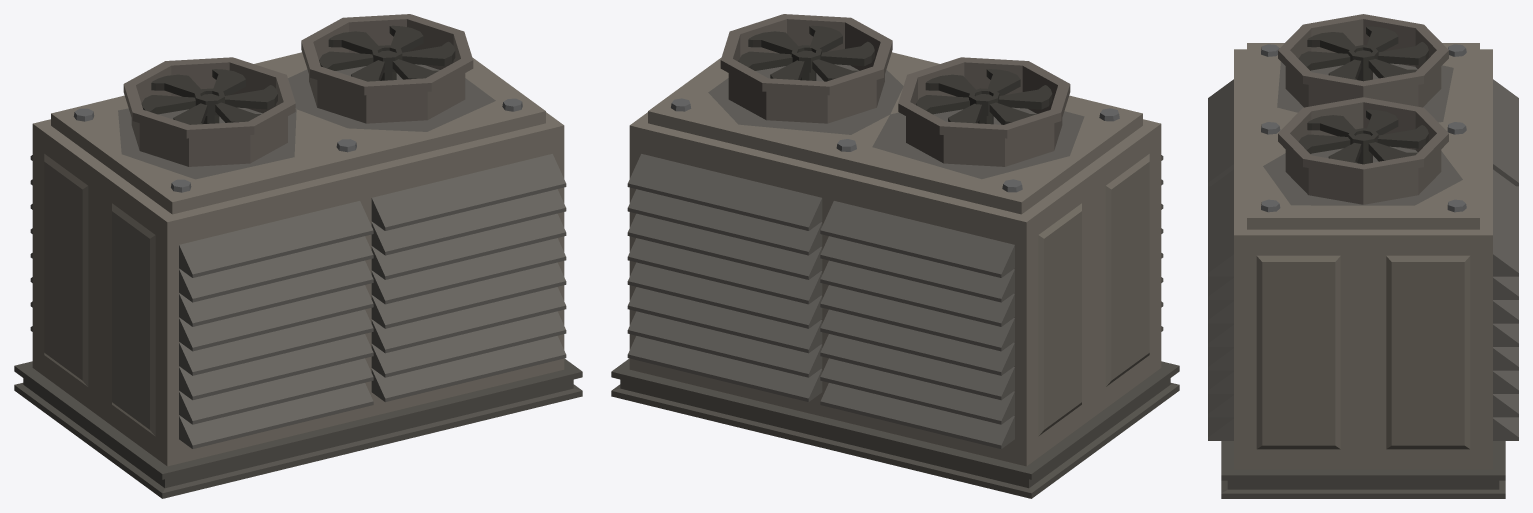
The model's file is SM_Props_Industrial_Equipment_02.fbx.
3 views of the same model, side by side, from view 1: azimuth 30°, elevation 25°; view 2: azimuth 150°, elevation 25°; view 3: azimuth 270°, elevation 25° (orthographic). The views are drawn at different scales.
Visible parts, largest first — view 1: SM_Props_Industrial_Equipment_02; view 2: SM_Props_Industrial_Equipment_02; view 3: SM_Props_Industrial_Equipment_02.
Part boxes in pixels (box(x1,y1,x2,y2)): SM_Props_Industrial_Equipment_02: box(14, 14, 582, 498); SM_Props_Industrial_Equipment_02: box(611, 14, 1179, 498); SM_Props_Industrial_Equipment_02: box(1208, 14, 1518, 498).
Bounding box in the file's own units: 360 × 263 × 240.
